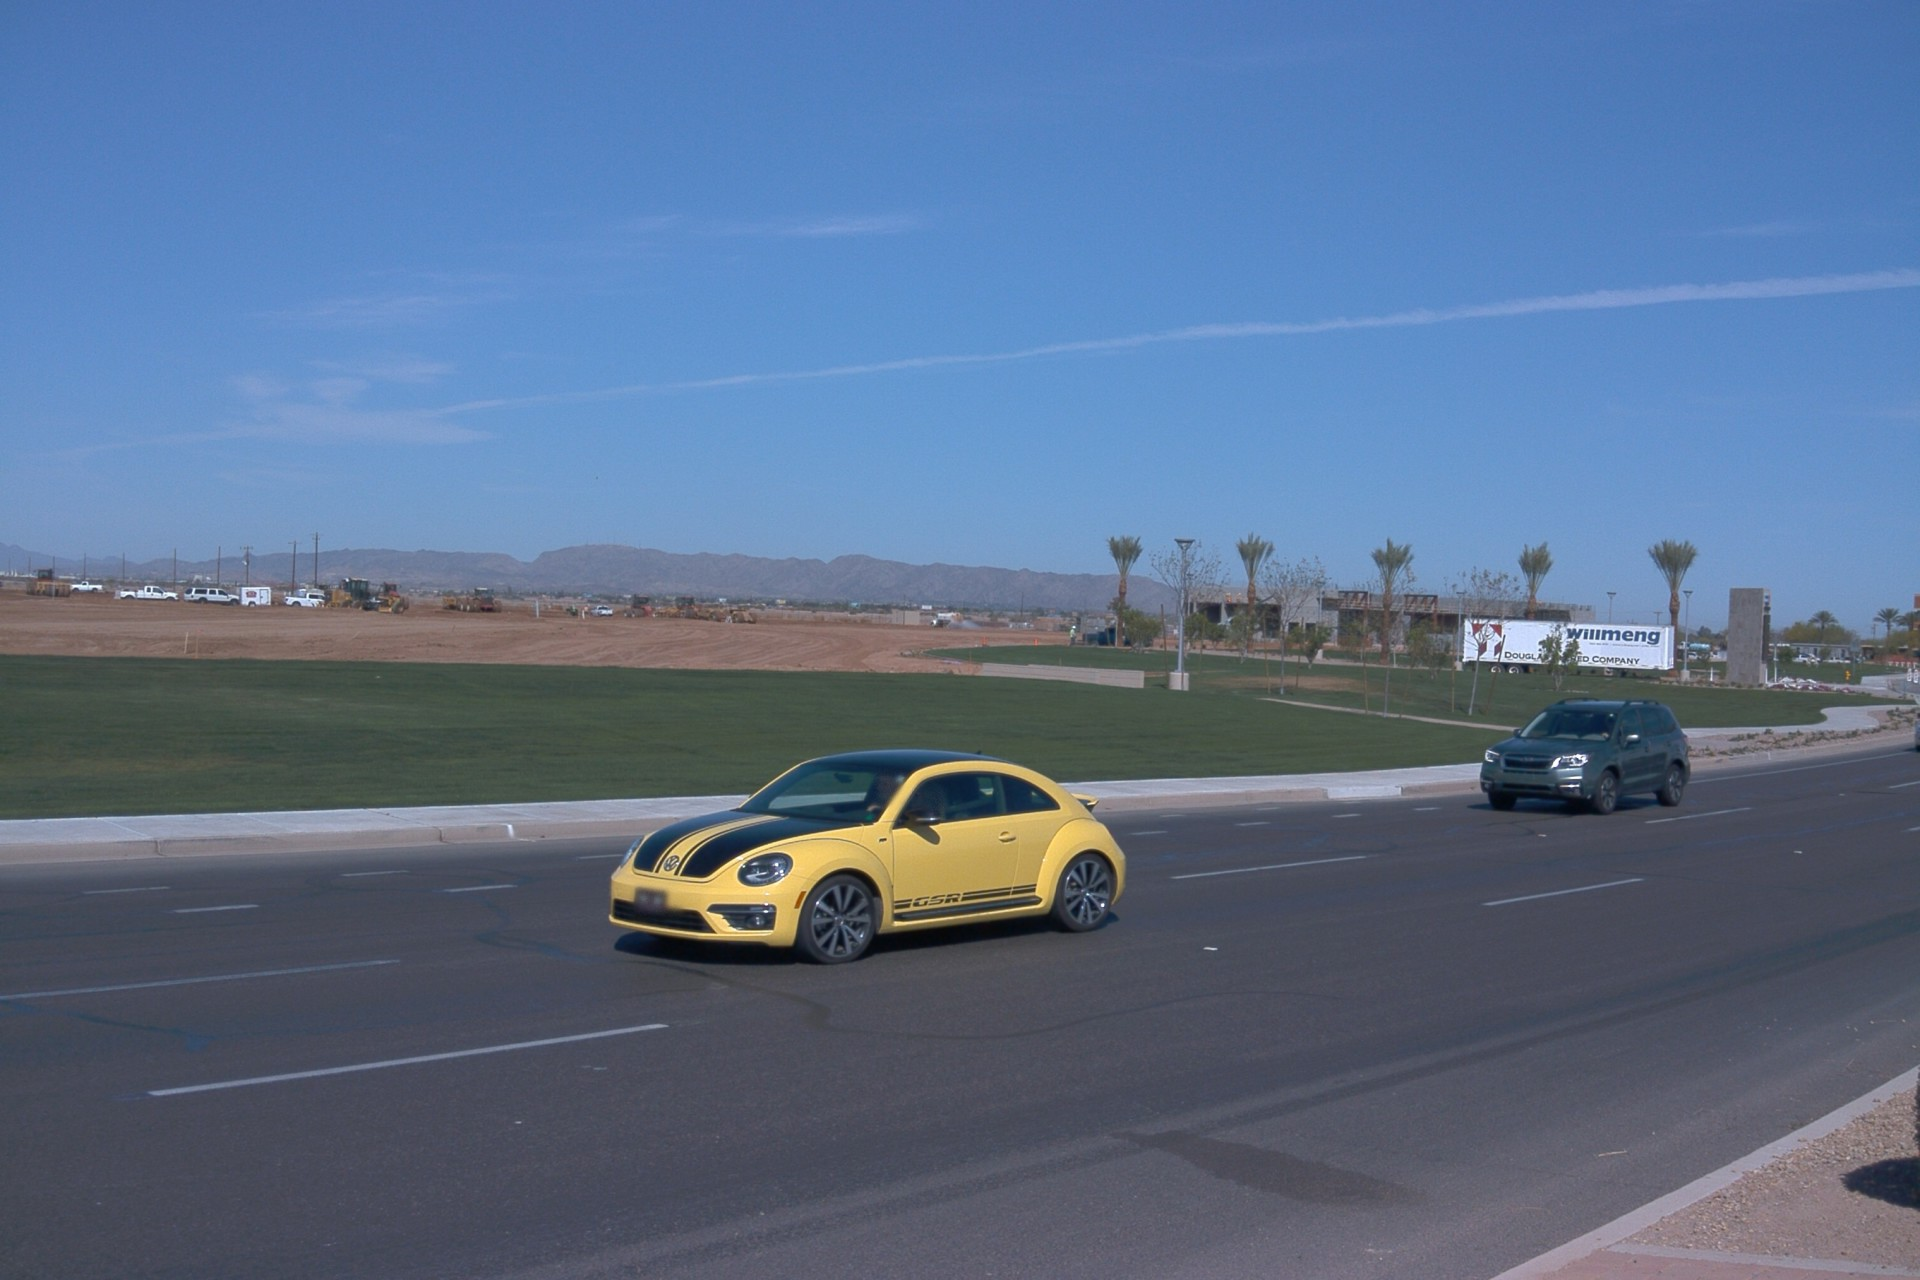TYPE_PEDESTRIAN: (1068, 626, 1077, 648), (582, 605, 590, 618), (569, 602, 577, 615)
TYPE_VEHICLE: (609, 748, 1126, 968), (1477, 697, 1691, 815), (1463, 613, 1681, 677), (310, 573, 405, 617), (1217, 591, 1284, 633), (1078, 621, 1157, 651), (440, 583, 502, 614), (185, 587, 244, 606), (119, 581, 180, 599), (283, 588, 330, 607), (924, 610, 968, 630), (236, 585, 278, 605), (69, 578, 105, 592), (1911, 712, 1920, 754), (379, 578, 400, 594), (592, 603, 615, 616), (315, 583, 332, 589)
